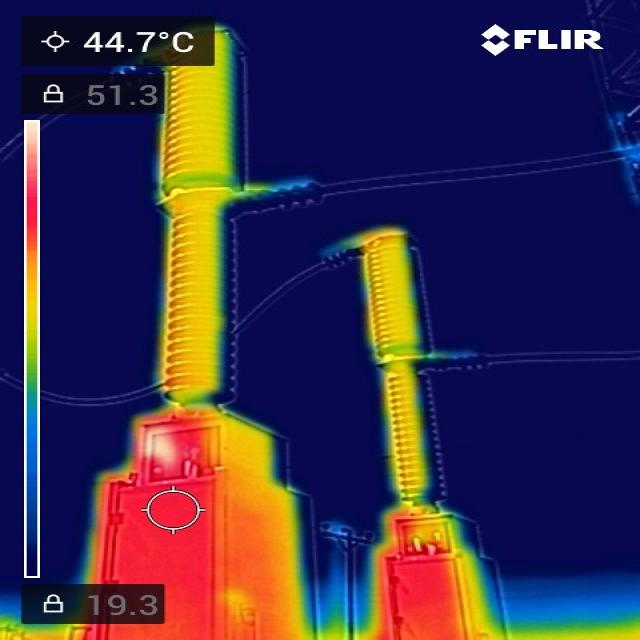Zona_Atenco: (222, 486, 300, 639)
Zona_Critica: (95, 420, 206, 639)
Zona_Extrema: (144, 433, 174, 461)
